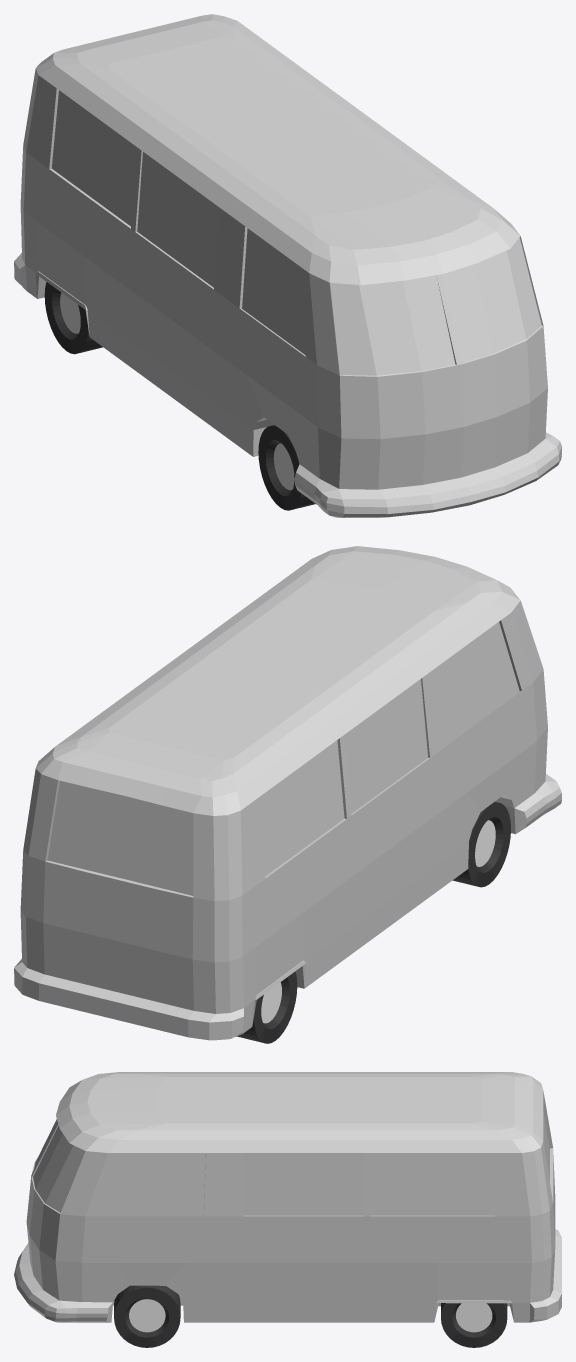
File: VanRoues.gltf
3 renders of one model, top to bottom at view 1: azimuth 30°, elevation 25°; view 2: azimuth 150°, elevation 25°; view 3: azimuth 270°, elevation 25°, orthographic. The views are drawn at different scales.
Parts seen in each view (by area): view 1: Brioche, Roue AVD, Roue ARD; view 2: Brioche, Roue AVD, Roue ARD; view 3: Brioche, Roue AVG, Roue ARG.
Part boxes in pixels (x1,y1,x2,y2): Brioche: [14, 14, 561, 517]; Roue AVD: [258, 425, 315, 510]; Roue ARD: [44, 282, 102, 354]; Brioche: [14, 546, 561, 1040]; Roue AVD: [452, 801, 510, 887]; Roue ARD: [237, 971, 297, 1043]; Brioche: [14, 1072, 561, 1322]; Roue AVG: [114, 1285, 180, 1347]; Roue ARG: [441, 1303, 507, 1347].
Size of the model in its own units: 3.77 by 4.16 by 9.94.
4 materials, 4 textured.
